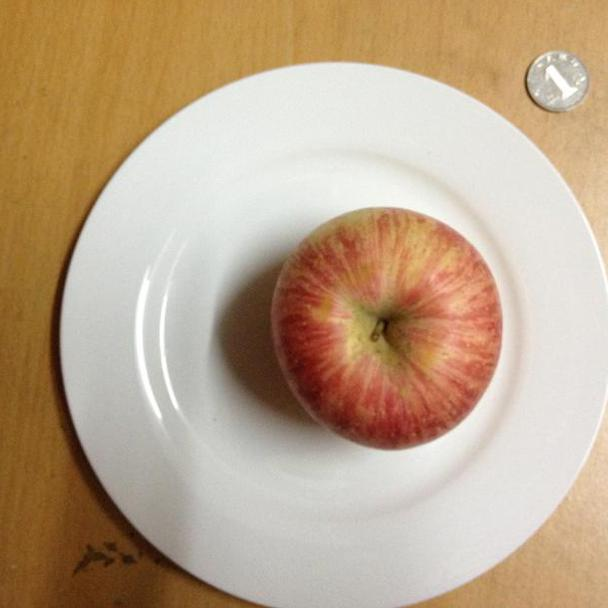apple: (271, 206, 502, 451)
